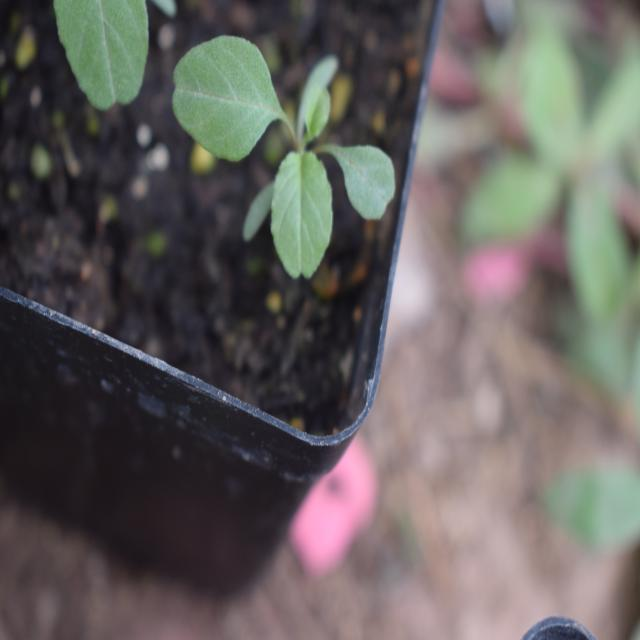pigweed: (174, 20, 385, 264)
